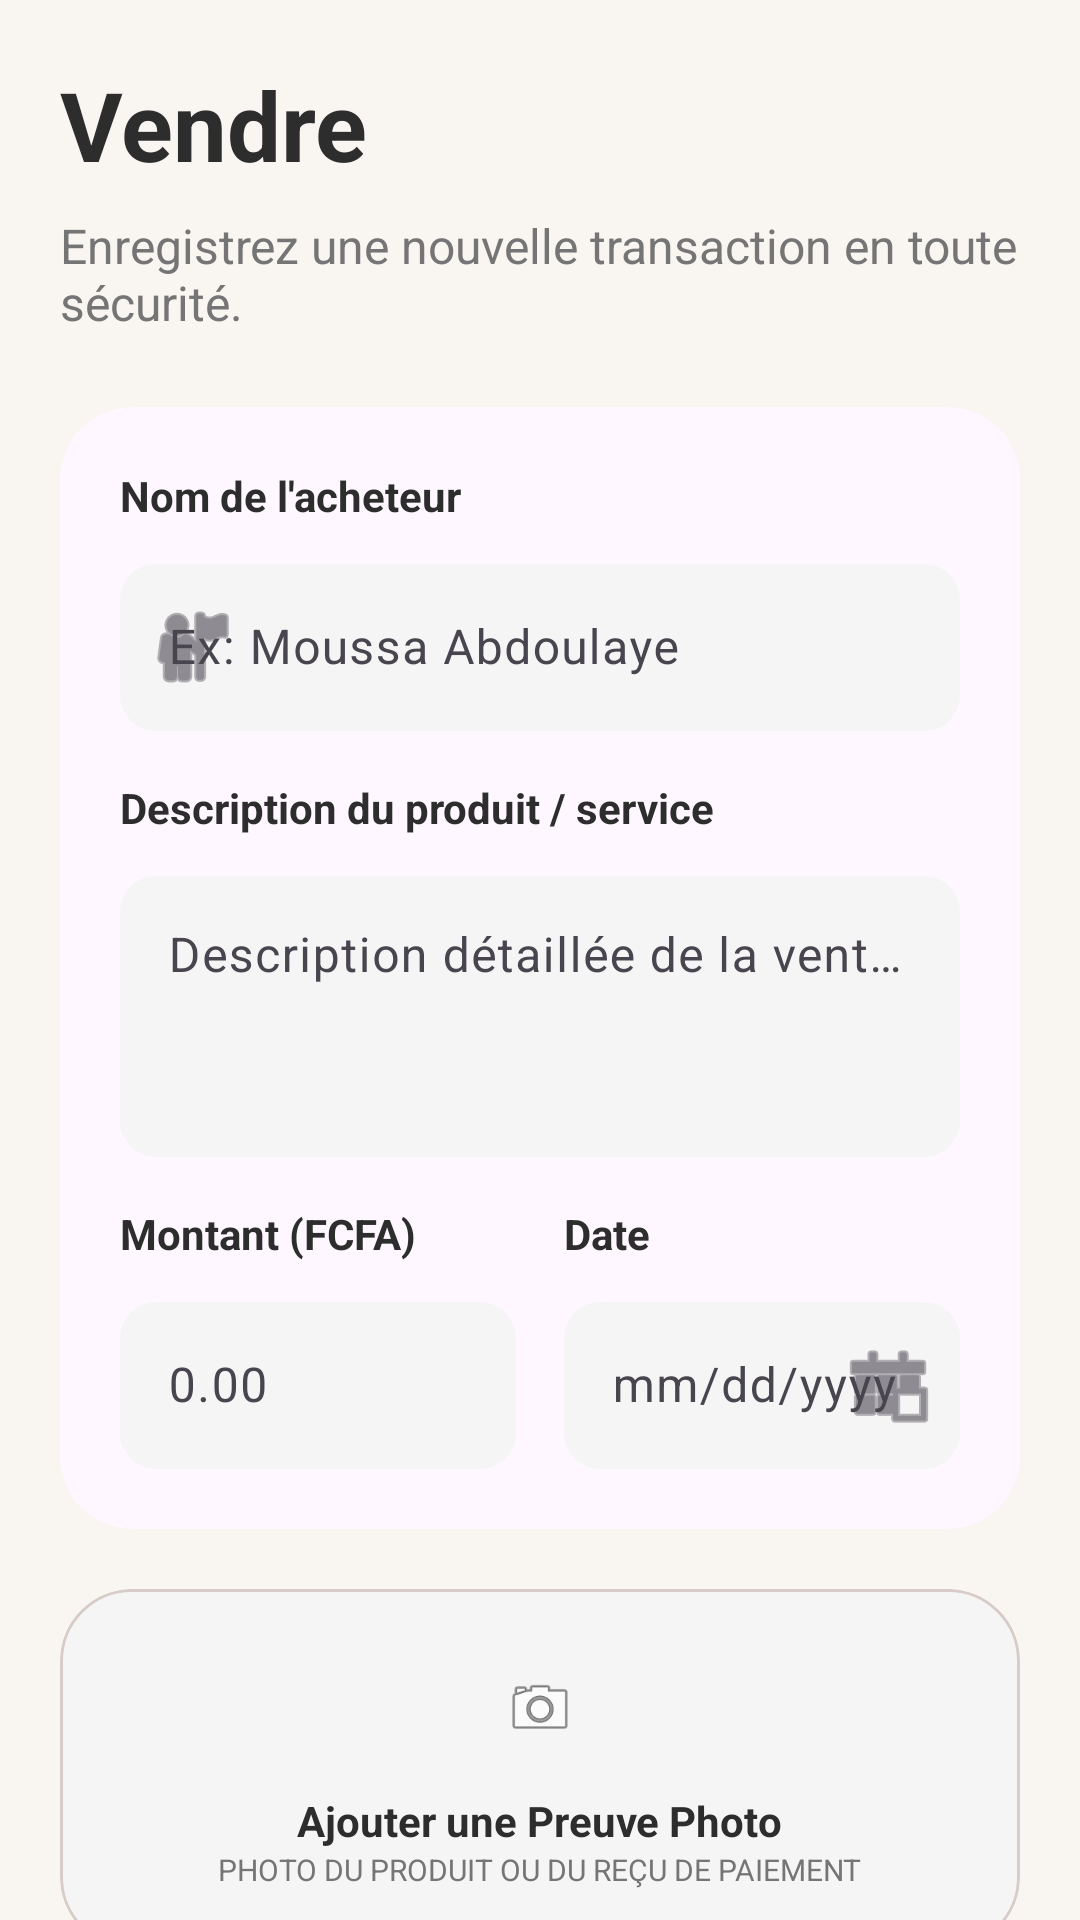

Icon click points for this 1080x1920 phone screenshot, format (x=x, y=y):
camera: (x=540, y=1707)
